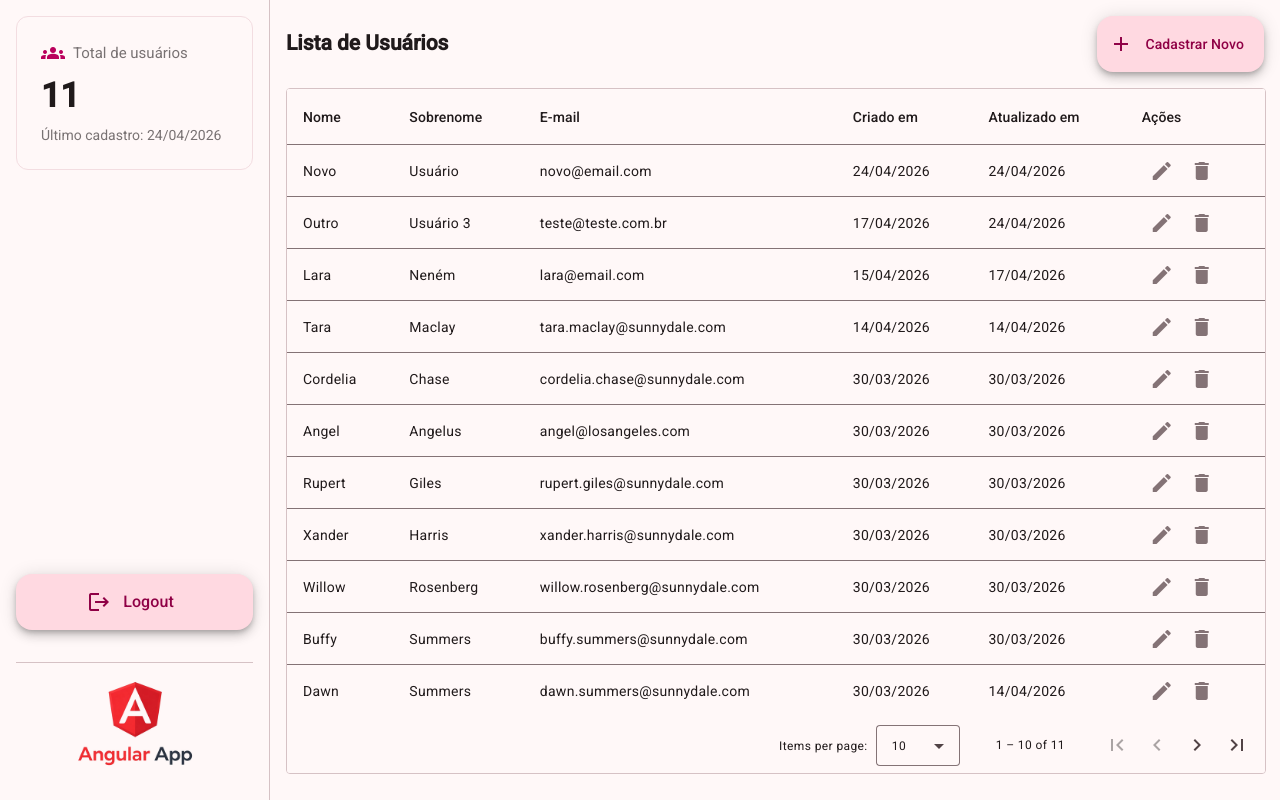
Test: Users sync with sidebar › Should update sidebar count after deleting user
Click the 1st button with test id "delete-user" at (1202, 171), box [1182,151,1222,191]
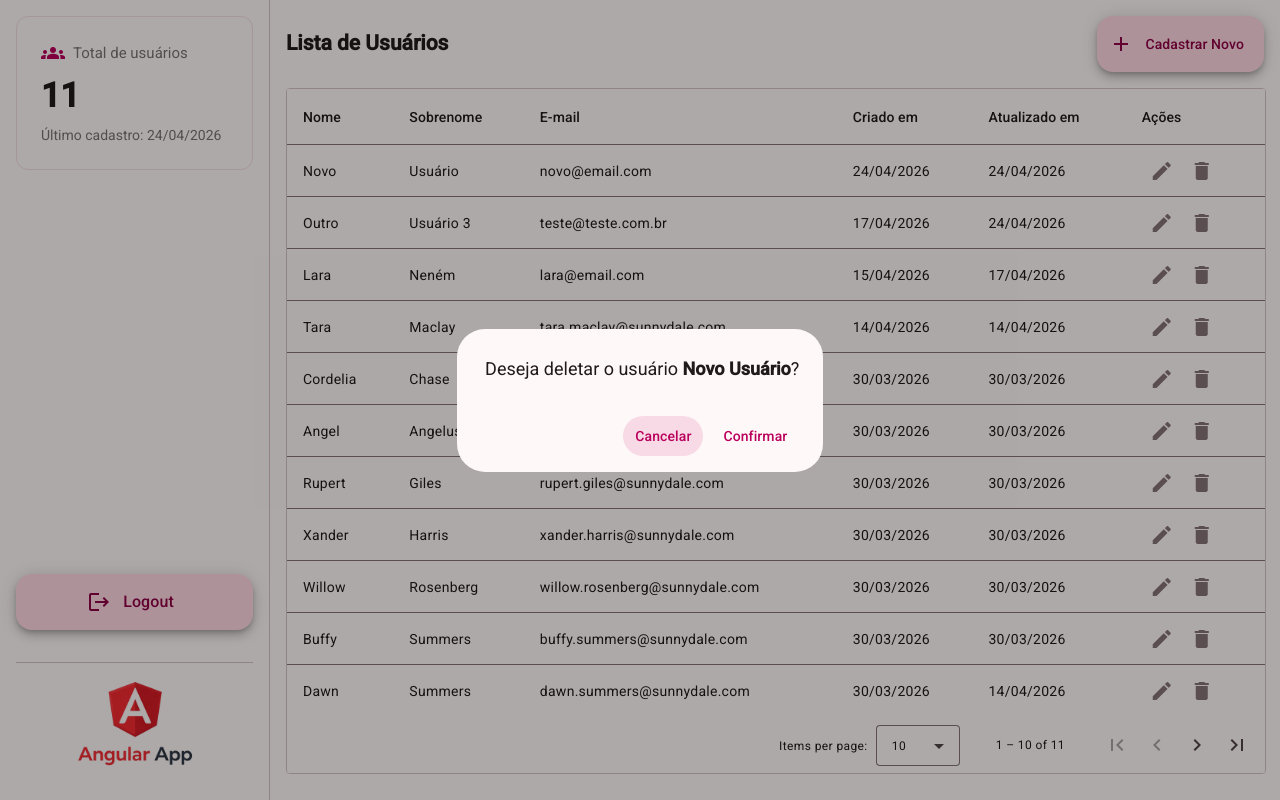
Now the heading with test id "delete-title" reads "Deseja deletar o usuário Novo Usuário?", box [481,358,800,379]
Click the button "Confirmar" at (756, 436), box [712,416,800,456]
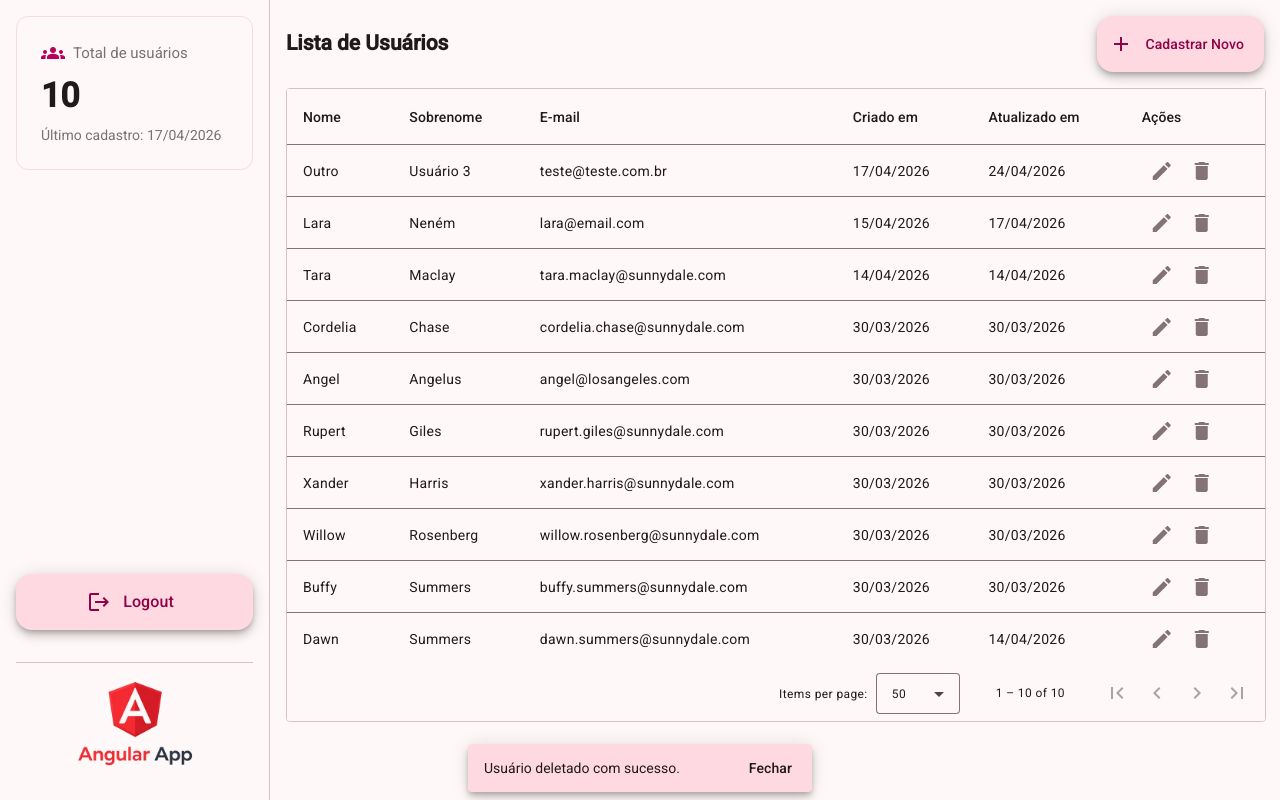
Now the text with test id "sidebar-count" reads "10", box [41,85,228,105]
